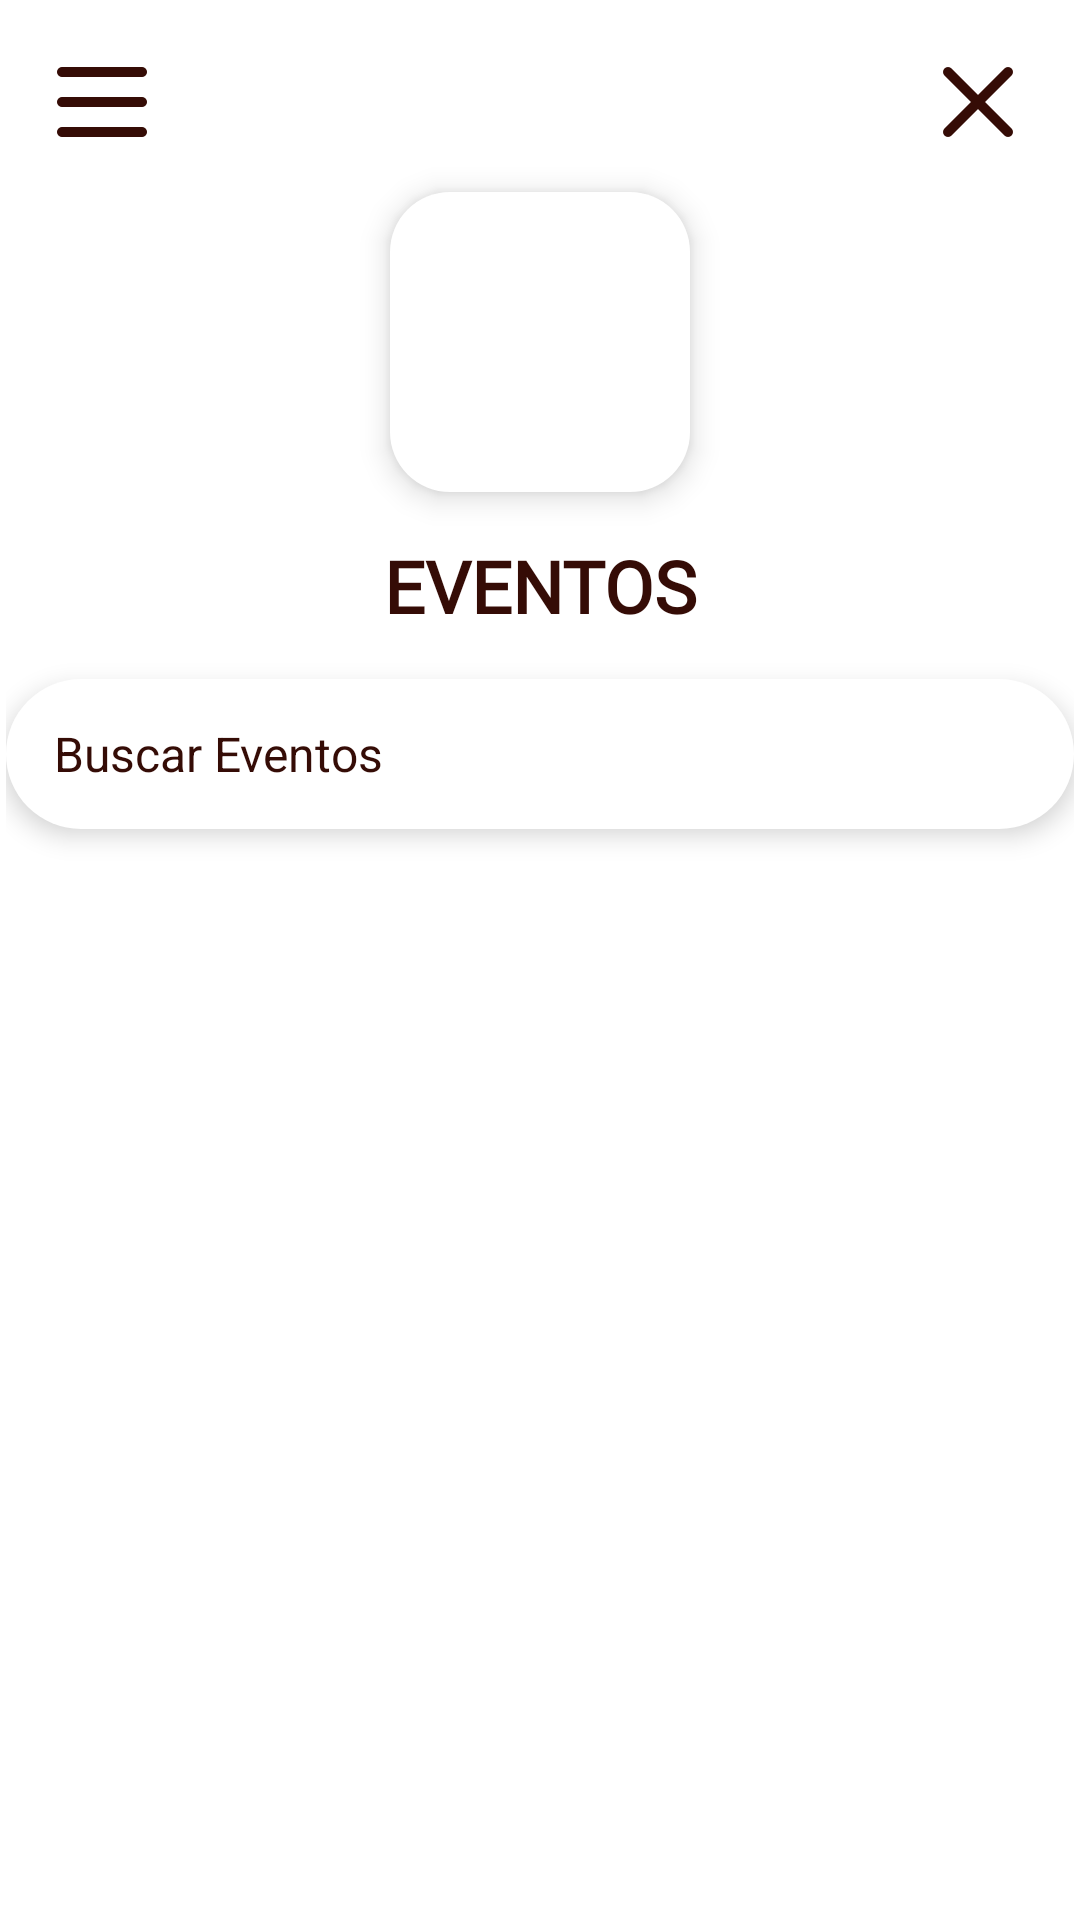

Icons on this 1080w x 1920h Android screen, each with the point to tap as (x=x, y=y):
close: (x=978, y=102)
menu: (x=102, y=102)
